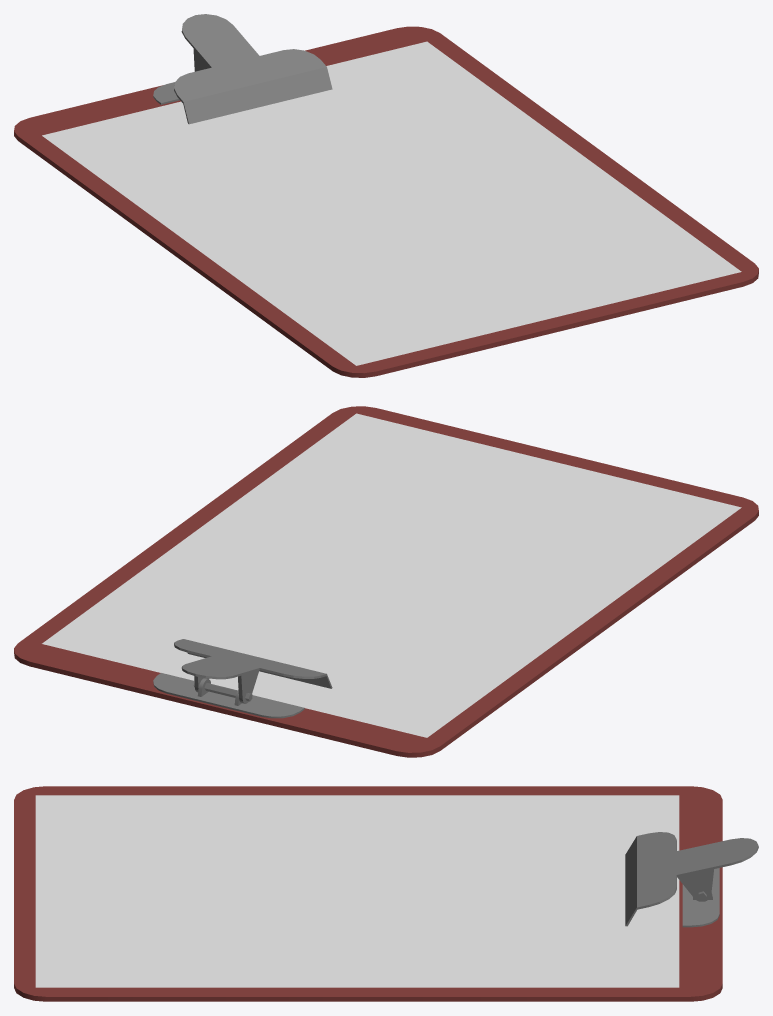
The model's file is Clipboard.fbx.
3 views of the same model, one above another, from view 1: azimuth 30°, elevation 25°; view 2: azimuth 150°, elevation 25°; view 3: azimuth 270°, elevation 25° (orthographic). The views are drawn at different scales.
Visible parts, largest first — view 1: Board, Clip; view 2: Board, Clip; view 3: Board, Clip.
Part boxes in pixels (x1=…): Board: x1=14, y1=26, x2=758, y2=377; Clip: x1=174, y1=14, x2=332, y2=124; Board: x1=14, y1=406, x2=758, y2=757; Clip: x1=174, y1=639, x2=332, y2=703; Board: x1=14, y1=786, x2=722, y2=1001; Clip: x1=625, y1=832, x2=758, y2=926.
Size of the model in its own units: 46 by 5.21 by 68.74.
